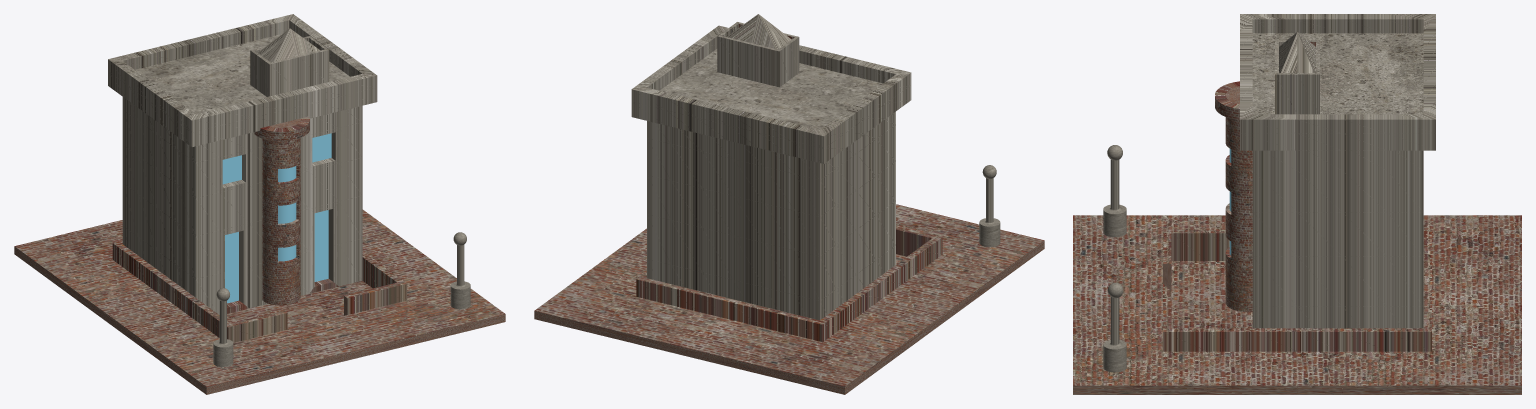
Rendered from castle.obj.
3 views of the same model, side by side, from view 1: azimuth 30°, elevation 25°; view 2: azimuth 150°, elevation 25°; view 3: azimuth 270°, elevation 25° (orthographic). The views are drawn at different scales.
Visible parts, largest first — view 1: _castle, Cylinder_1, Cylinder, Cylinder_2; view 2: _castle, Cylinder; view 3: _castle, Cylinder_1, Cylinder, Cylinder_2.
Part boxes in pixels (x1,y1,x2,y2): _castle: [14, 14, 505, 394]; Cylinder_1: [254, 116, 309, 305]; Cylinder: [213, 300, 233, 367]; Cylinder_2: [450, 245, 470, 309]; _castle: [534, 14, 1044, 394]; Cylinder: [979, 178, 1000, 247]; _castle: [1073, 14, 1521, 394]; Cylinder_1: [1215, 81, 1252, 312]; Cylinder: [1103, 159, 1126, 237]; Cylinder_2: [1103, 297, 1126, 372].
Size of the model in its own units: 640 by 516 by 712.
